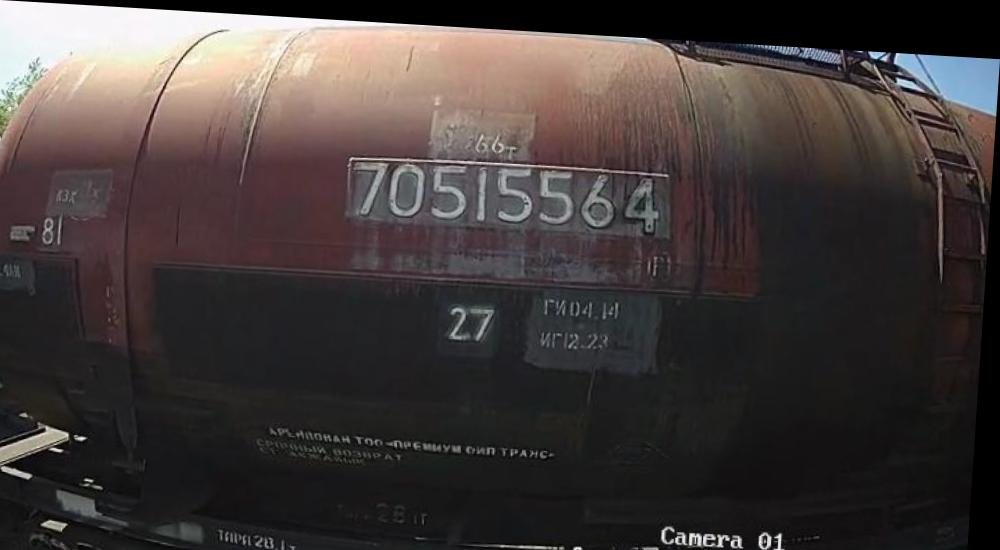Wagon-number: (352, 153, 667, 228)
